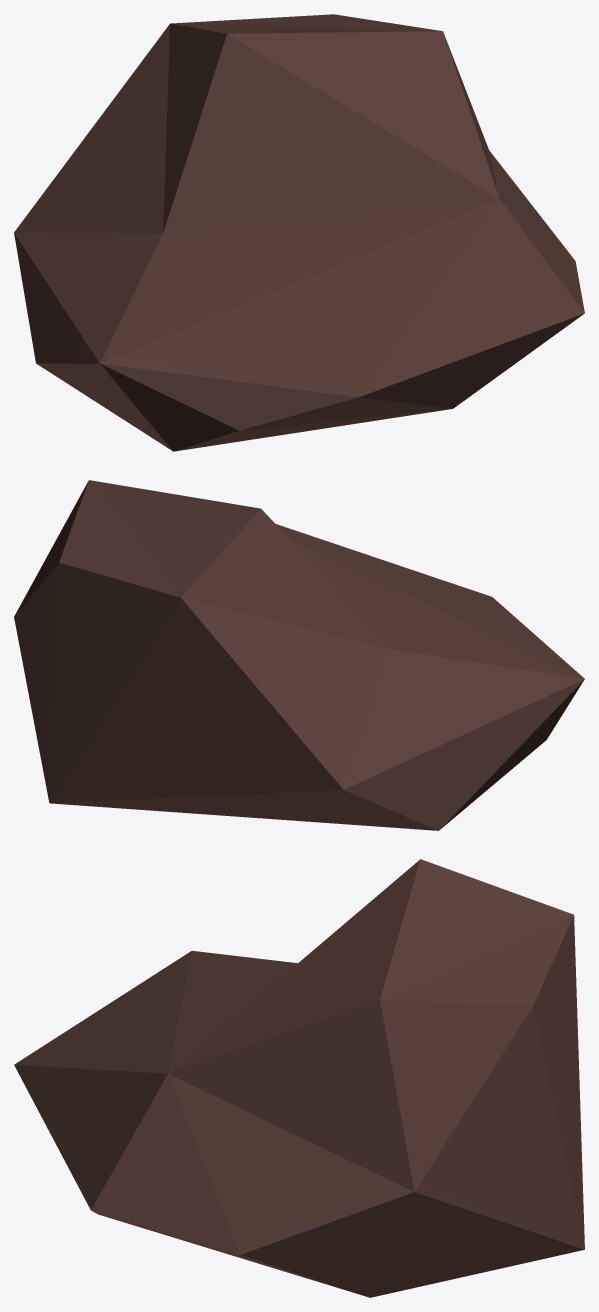
The model's file is Boulder-C11.fbx.
The picture shows the model from 3 angles, top to bottom: view 1: azimuth 30°, elevation 25°; view 2: azimuth 150°, elevation 25°; view 3: azimuth 270°, elevation 25°; orthographic projection. The views are drawn at different scales.
Parts seen in each view (by area): view 1: Boulder-C11; view 2: Boulder-C11; view 3: Boulder-C11.
Part boxes in pixels (x1,y1,x2,y2): Boulder-C11: (14, 14, 584, 451); Boulder-C11: (14, 480, 584, 830); Boulder-C11: (14, 859, 584, 1297).
Size of the model in its own units: 160 by 87.96 by 145.
